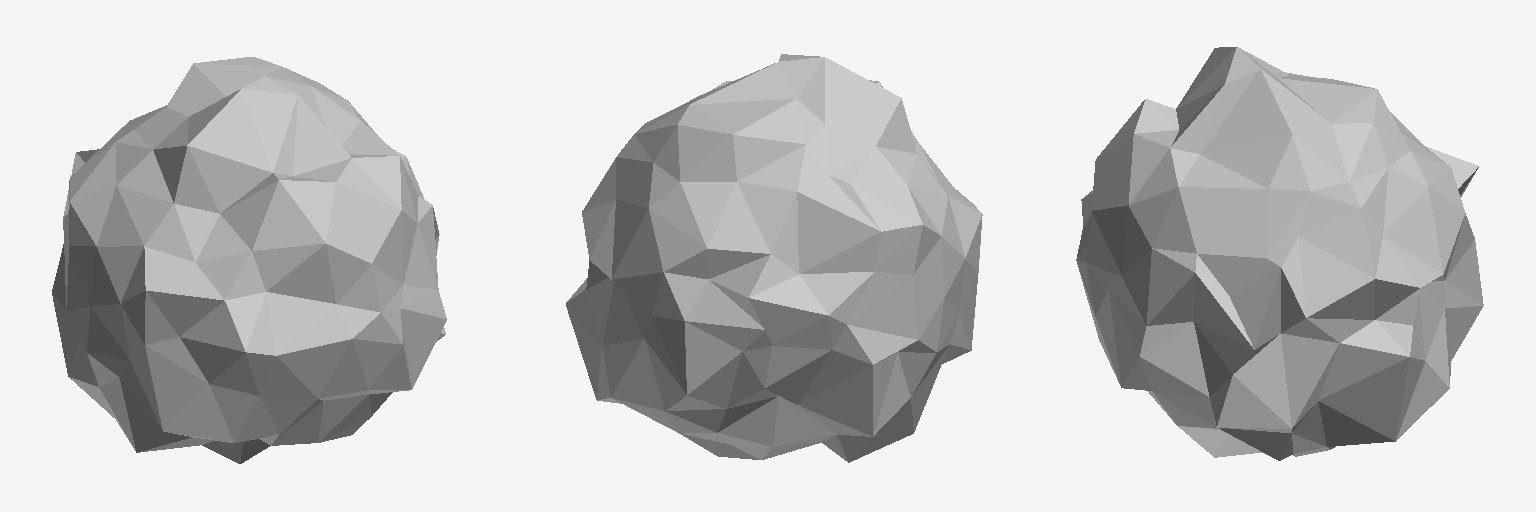
The model's file is fire_000021.obj.
3 views of the same model, side by side, from view 1: azimuth 30°, elevation 25°; view 2: azimuth 150°, elevation 25°; view 3: azimuth 270°, elevation 25° (orthographic).
Visible parts, largest first — view 1: Icosphere; view 2: Icosphere; view 3: Icosphere.
Part boxes in pixels (left/top/right/bottom): Icosphere: left=52, top=57, right=446, bottom=463; Icosphere: left=566, top=54, right=982, bottom=462; Icosphere: left=1076, top=47, right=1483, bottom=460.
Bounding box in the file's own units: 1.51 × 1.63 × 1.56.